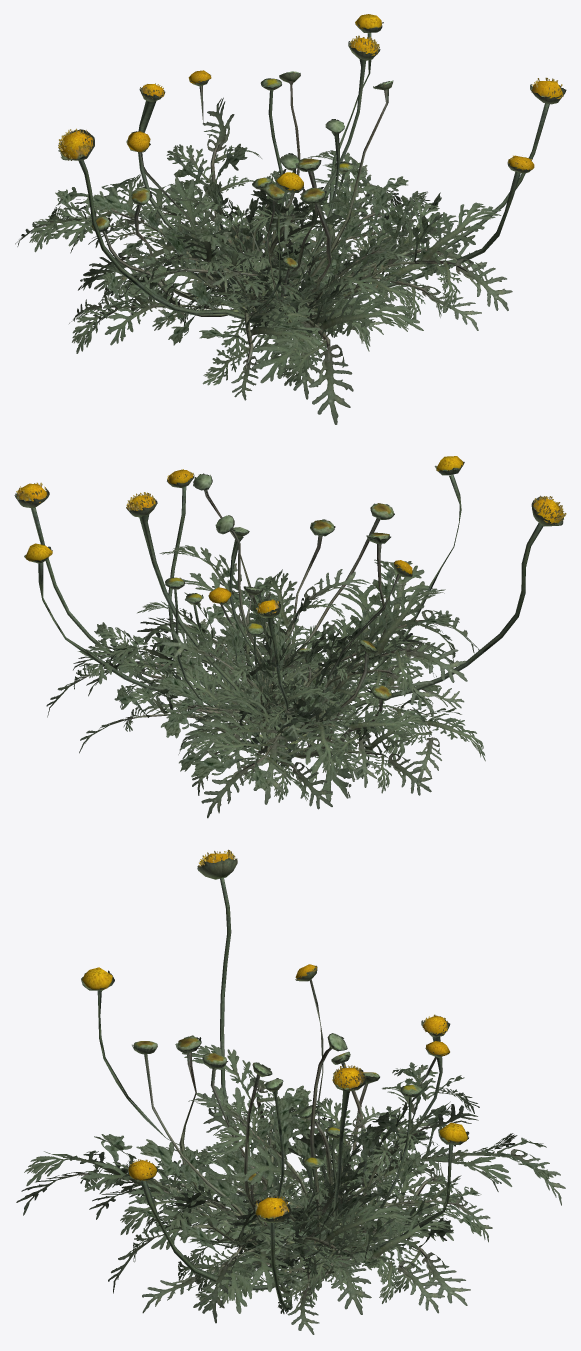
Rendered from helichrysum-clump.glb.
The picture shows the model from 3 angles, top to bottom: view 1: azimuth 30°, elevation 25°; view 2: azimuth 150°, elevation 25°; view 3: azimuth 270°, elevation 25°; orthographic projection. The views are drawn at different scales.
Visible parts, largest first — view 1: helichrysum-clump_a, helichrysum-clump_b, helichrysum-clump_d, helichrysum-clump_c; view 2: helichrysum-clump_a, helichrysum-clump_b, helichrysum-clump_d, helichrysum-clump_c; view 3: helichrysum-clump_a, helichrysum-clump_b, helichrysum-clump_d, helichrysum-clump_c.
Part boxes in pixels (x1,y1,x2,y2): helichrysum-clump_a: [15, 14, 566, 424]; helichrysum-clump_b: [83, 35, 534, 400]; helichrysum-clump_d: [125, 119, 487, 399]; helichrysum-clump_c: [83, 71, 481, 368]; helichrysum-clump_a: [14, 456, 566, 818]; helichrysum-clump_b: [73, 469, 464, 795]; helichrysum-clump_d: [86, 527, 438, 795]; helichrysum-clump_c: [88, 503, 428, 809]; helichrysum-clump_a: [16, 849, 565, 1313]; helichrysum-clump_b: [99, 964, 478, 1334]; helichrysum-clump_d: [89, 1078, 492, 1323]; helichrysum-clump_c: [119, 1033, 463, 1313].
Size of the model in its own units: 0.3499 by 0.1759 by 0.3005.
1 material, 1 textured.
